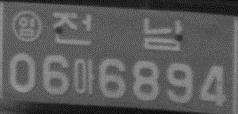0: (8, 52, 36, 94)
4: (198, 64, 227, 107)
6: (42, 53, 69, 95), (98, 58, 125, 99)
8: (132, 59, 159, 102)
9: (165, 62, 194, 103)
아: (73, 57, 96, 95)
영: (10, 9, 42, 43)
전남_D: (52, 11, 182, 52)
